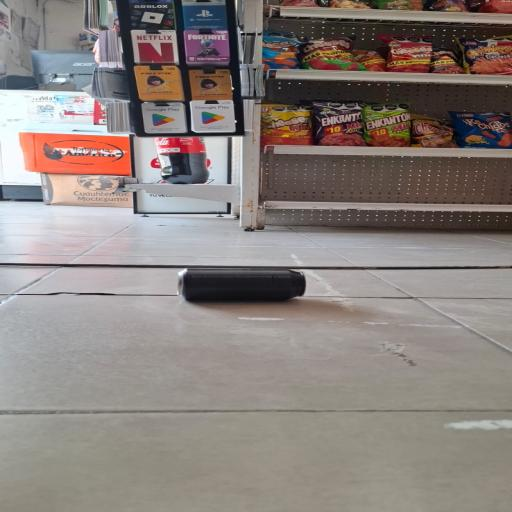LATA: (169, 264, 324, 306)
